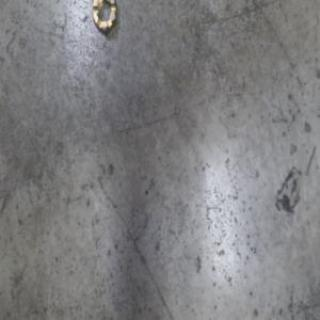Nuttrack_idkeyframe: (89, 0, 118, 39)
